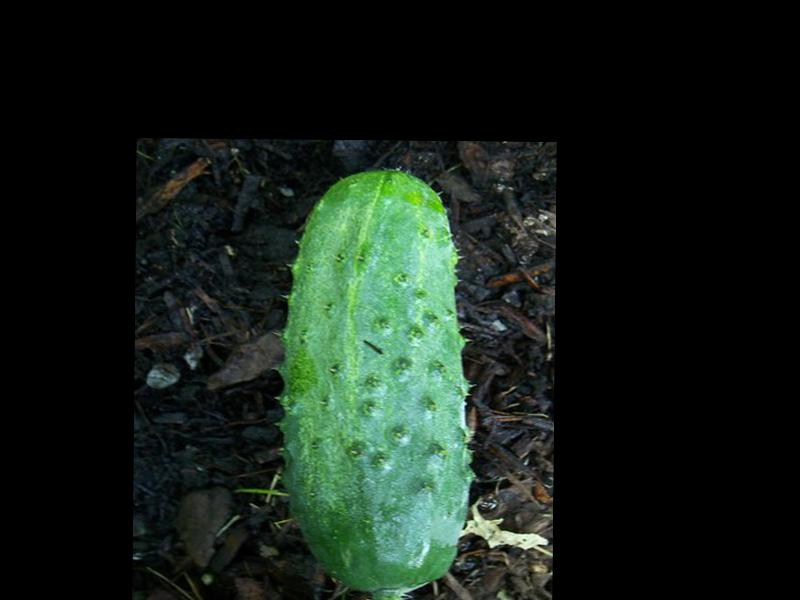Cucumber: (276, 165, 474, 594)
